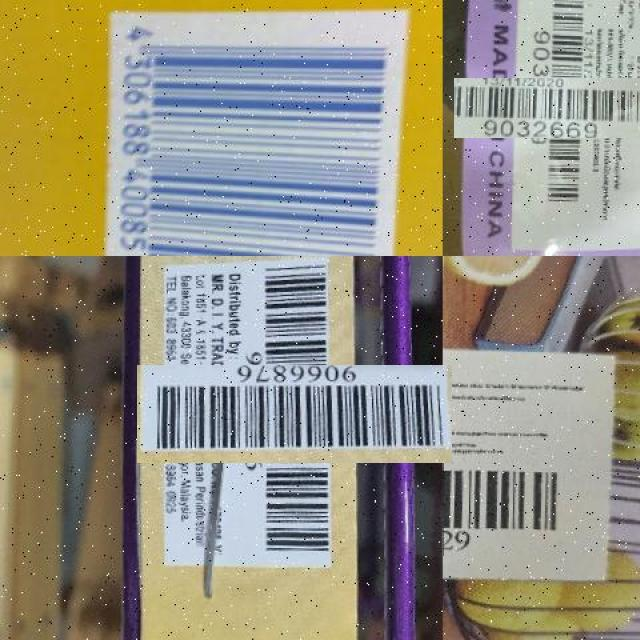Barcode: (104, 1, 412, 256), (191, 310, 398, 517), (493, 39, 631, 177), (442, 461, 578, 556)
